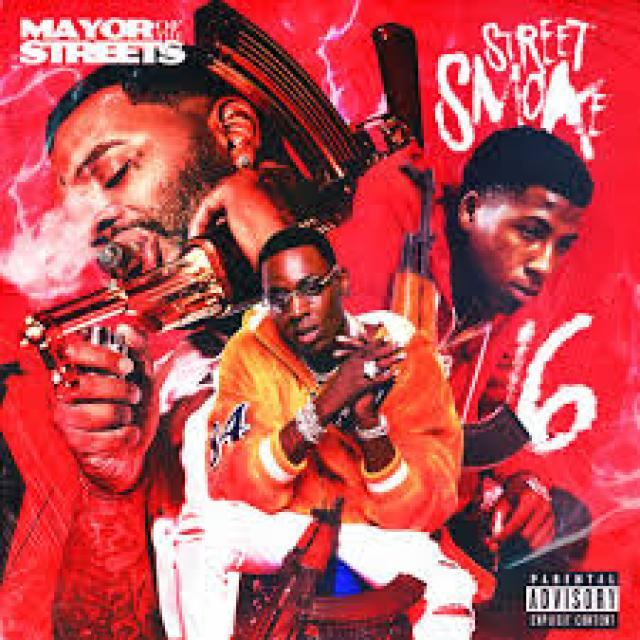Smoke: (0, 148, 106, 304)
